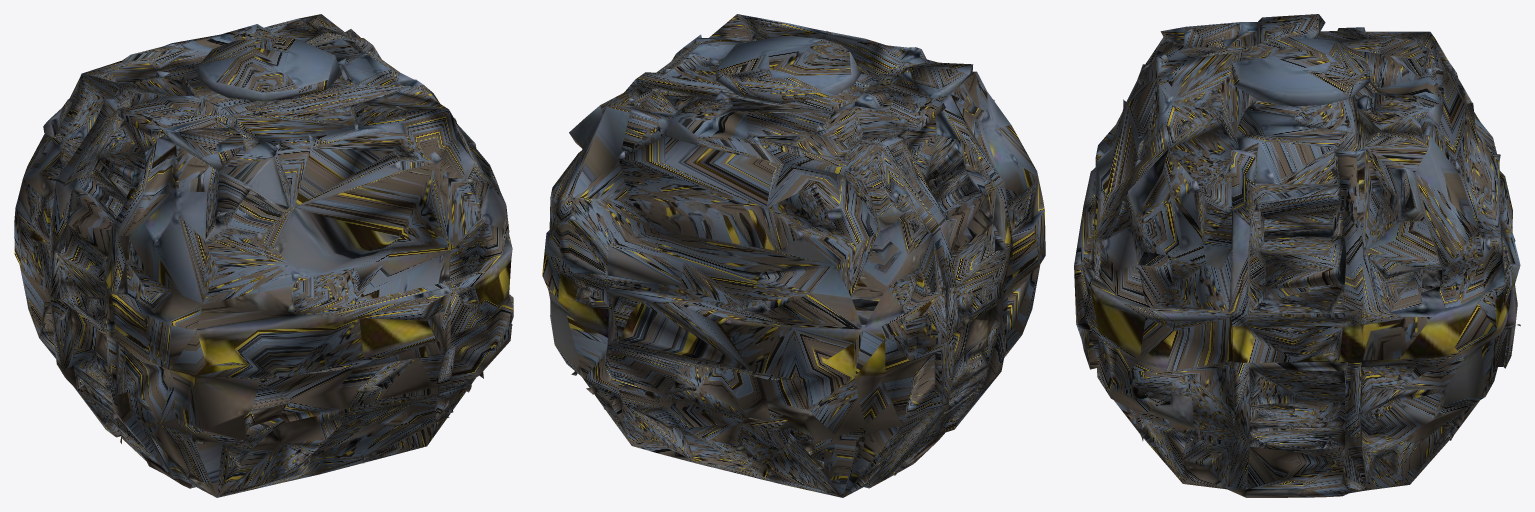
File: trial_pod.glb
The picture shows the model from 3 angles, left to right: view 1: azimuth 30°, elevation 25°; view 2: azimuth 150°, elevation 25°; view 3: azimuth 270°, elevation 25°; orthographic projection.
Visible parts, largest first — view 1: tripo_node_8d0d788b-f614-4776-89b4-e60e2d7c9d0e; view 2: tripo_node_8d0d788b-f614-4776-89b4-e60e2d7c9d0e; view 3: tripo_node_8d0d788b-f614-4776-89b4-e60e2d7c9d0e.
Boxes of the visible parts, x1,y1,x2,y2 form: tripo_node_8d0d788b-f614-4776-89b4-e60e2d7c9d0e: (14, 14, 513, 497); tripo_node_8d0d788b-f614-4776-89b4-e60e2d7c9d0e: (542, 14, 1045, 497); tripo_node_8d0d788b-f614-4776-89b4-e60e2d7c9d0e: (1074, 14, 1520, 497).
Bounding box in the file's own units: 0.994 × 0.9605 × 0.9979.
1 material, 1 textured.
